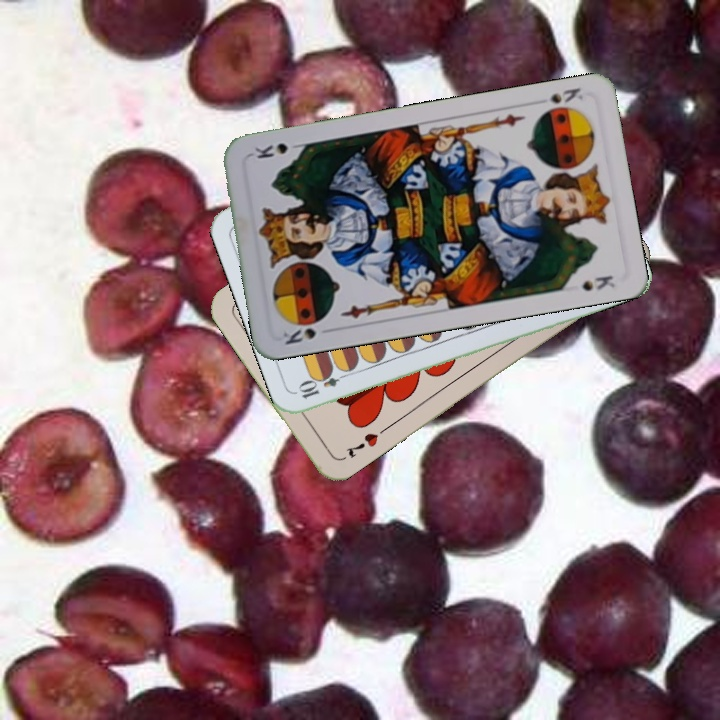E10: (294, 367, 352, 402)
H7: (341, 428, 381, 461)
SK: (278, 324, 336, 347), (545, 84, 586, 106)
